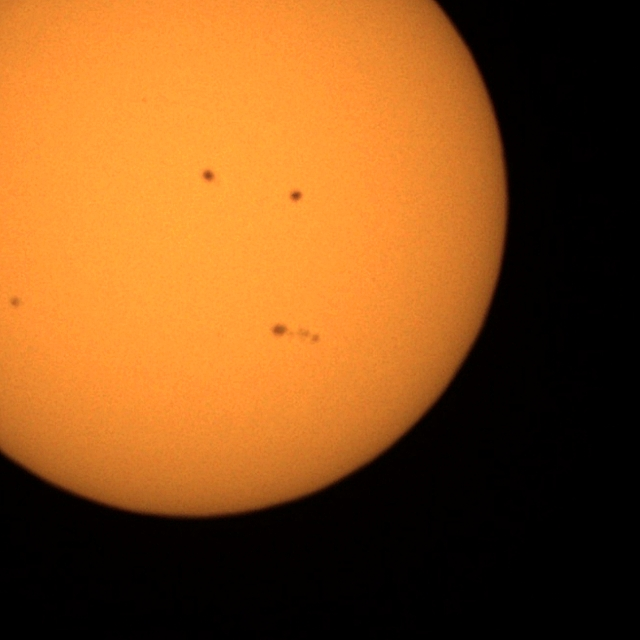sunspot: (271, 322, 321, 346), (288, 188, 304, 204), (201, 168, 216, 184), (8, 295, 24, 310)
